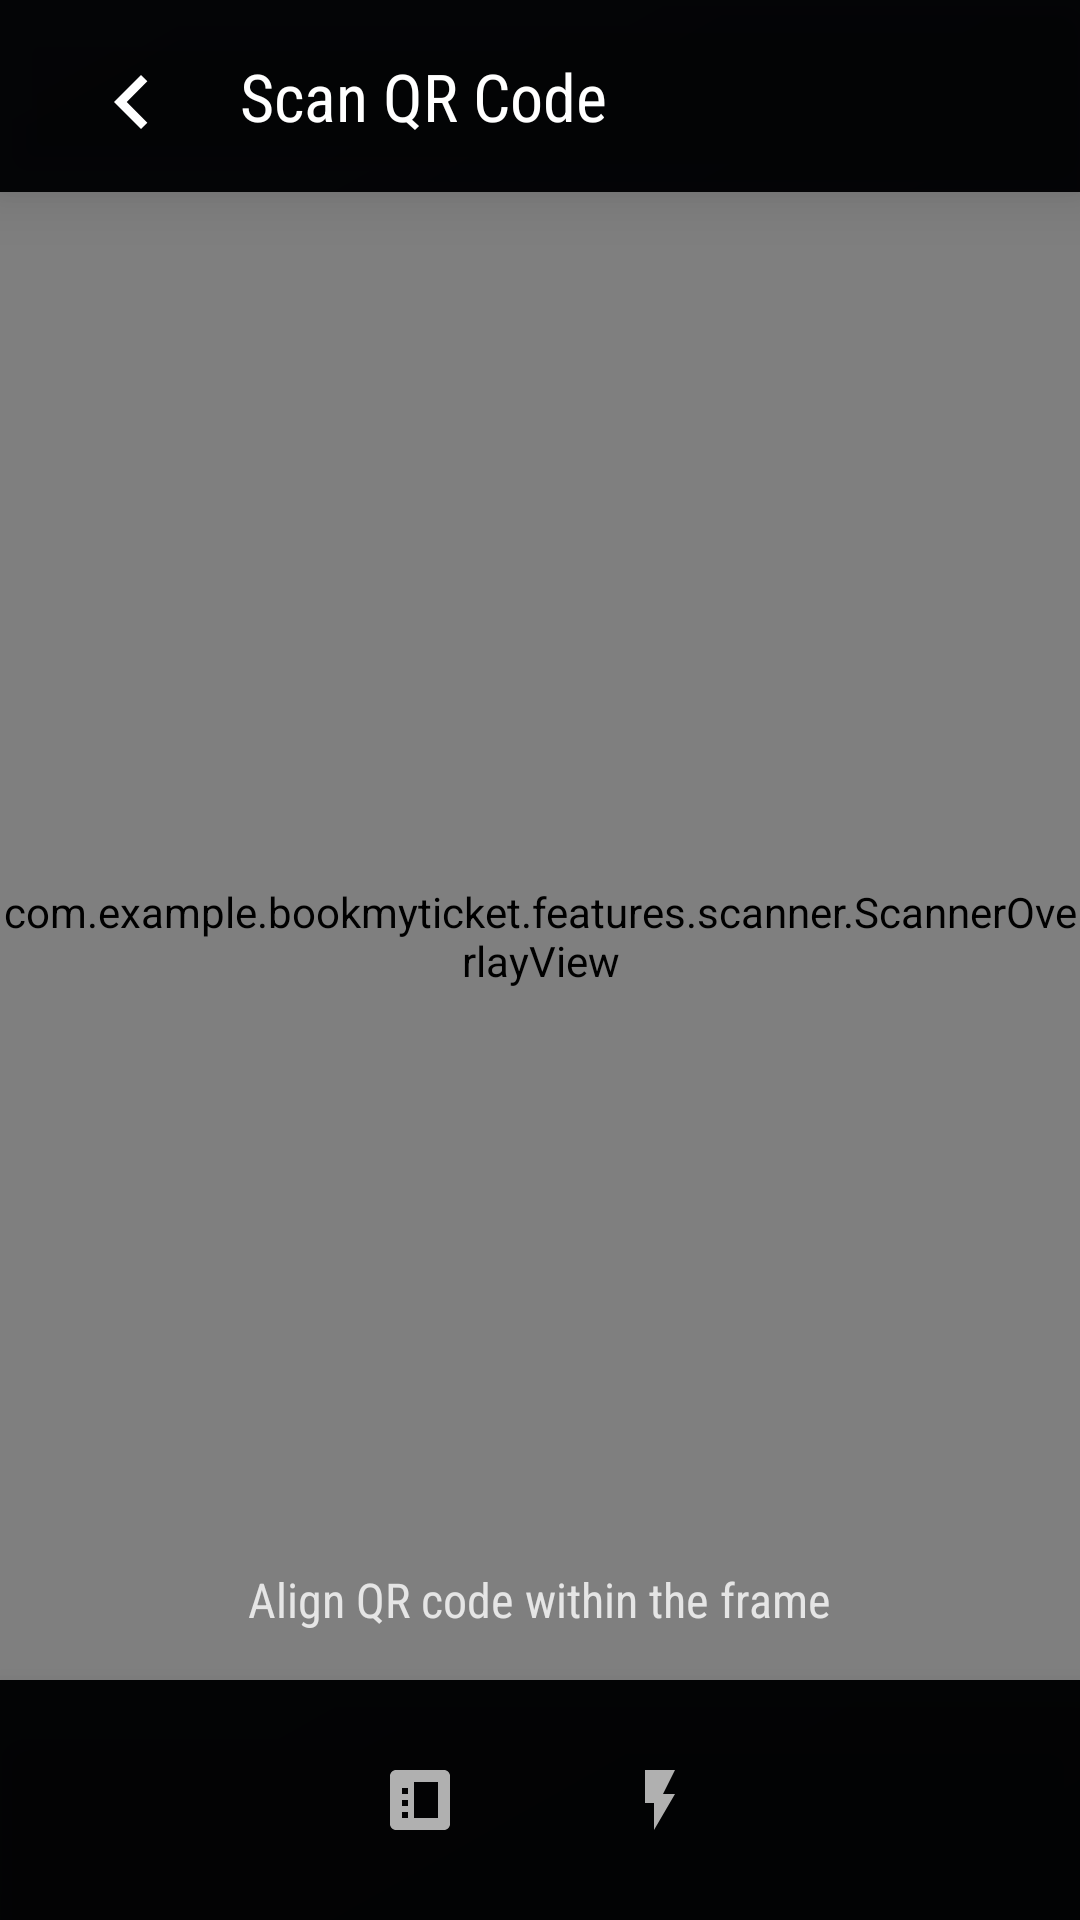

Icon bounding boxes for this 1080*1920 phone screenshot, format detection(x1, y1, x2, y2):
Open Gallery: detection(390, 1770, 450, 1830)
Toggle Torch: detection(645, 1770, 675, 1830)
